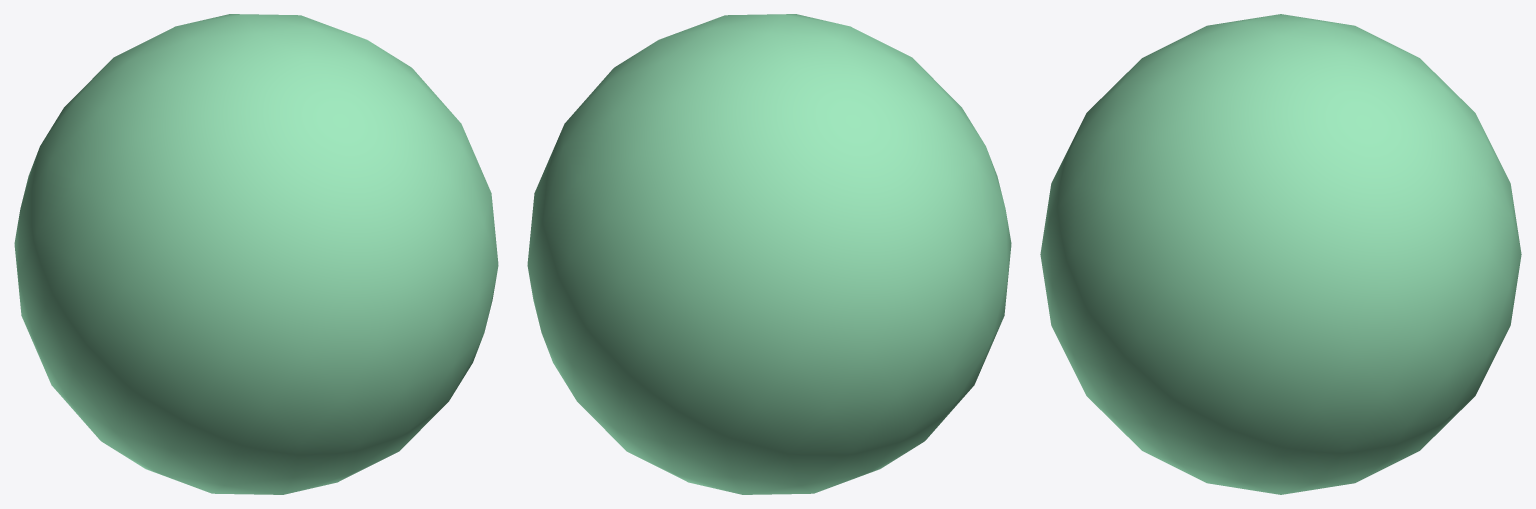
The model's file is geosphere.obj.
3 views of the same model, side by side, from view 1: azimuth 30°, elevation 25°; view 2: azimuth 150°, elevation 25°; view 3: azimuth 270°, elevation 25° (orthographic).
Visible parts, largest first — view 1: geosphere; view 2: geosphere; view 3: geosphere.
Part boxes in pixels (x1,y1,x2,y2): geosphere: [14, 14, 498, 494]; geosphere: [527, 14, 1011, 494]; geosphere: [1040, 14, 1521, 494].
Size of the model in its own units: 1 by 1 by 1.
